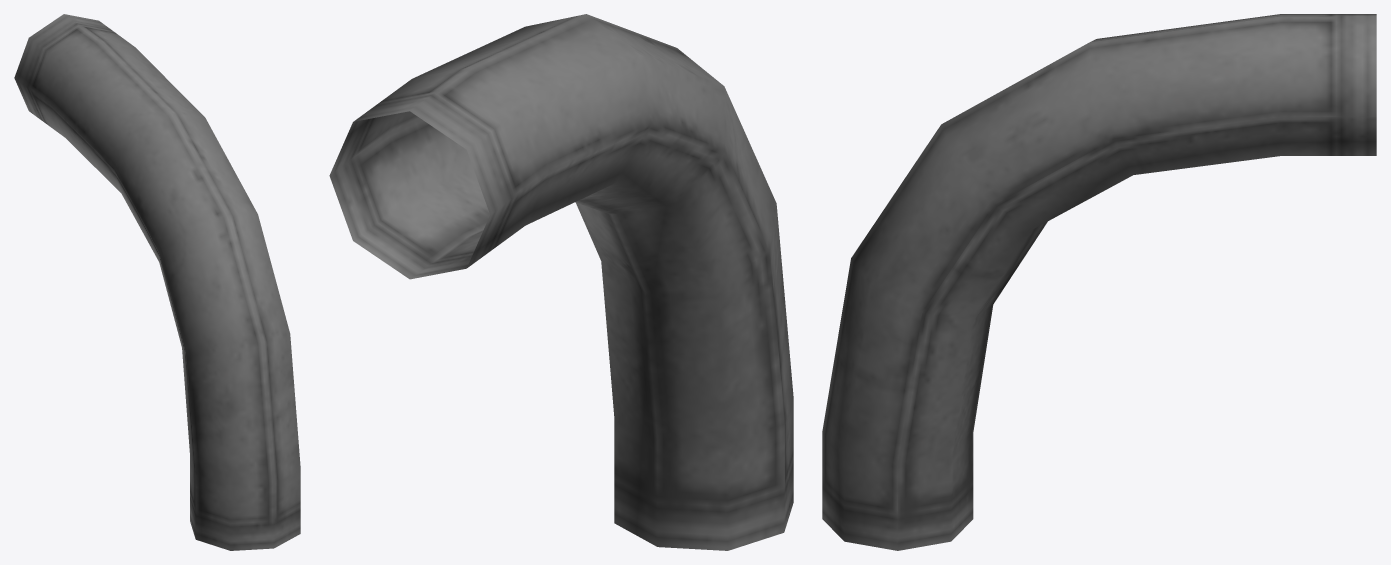
The model's file is CP_Pipe_C_Angle.fbx.
3 renders of one model, left to right at view 1: azimuth 30°, elevation 25°; view 2: azimuth 150°, elevation 25°; view 3: azimuth 270°, elevation 25°, orthographic. The views are drawn at different scales.
Parts seen in each view (by area): view 1: CP_Pipe_C_Angle; view 2: CP_Pipe_C_Angle; view 3: CP_Pipe_C_Angle.
Part boxes in pixels (x1,y1,x2,y2): CP_Pipe_C_Angle: [14, 14, 300, 550]; CP_Pipe_C_Angle: [329, 14, 793, 550]; CP_Pipe_C_Angle: [822, 14, 1376, 550].
Bounding box in the file's own units: 15.78 × 57.89 × 57.89.
